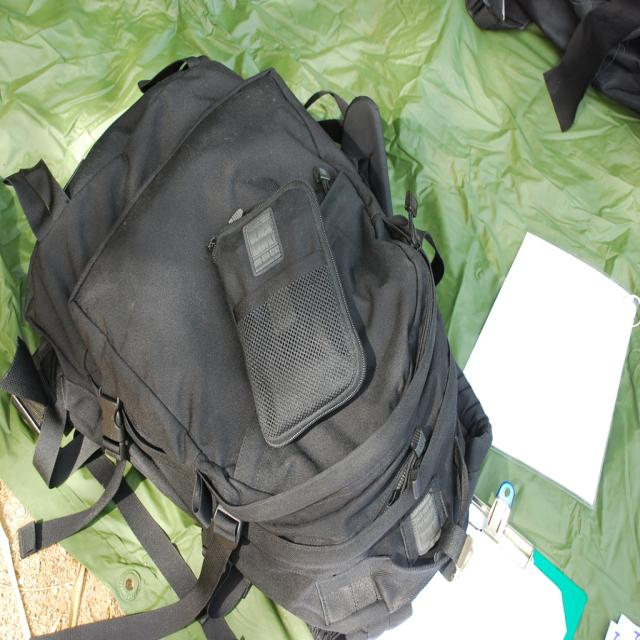backpack: (9, 56, 490, 639)
